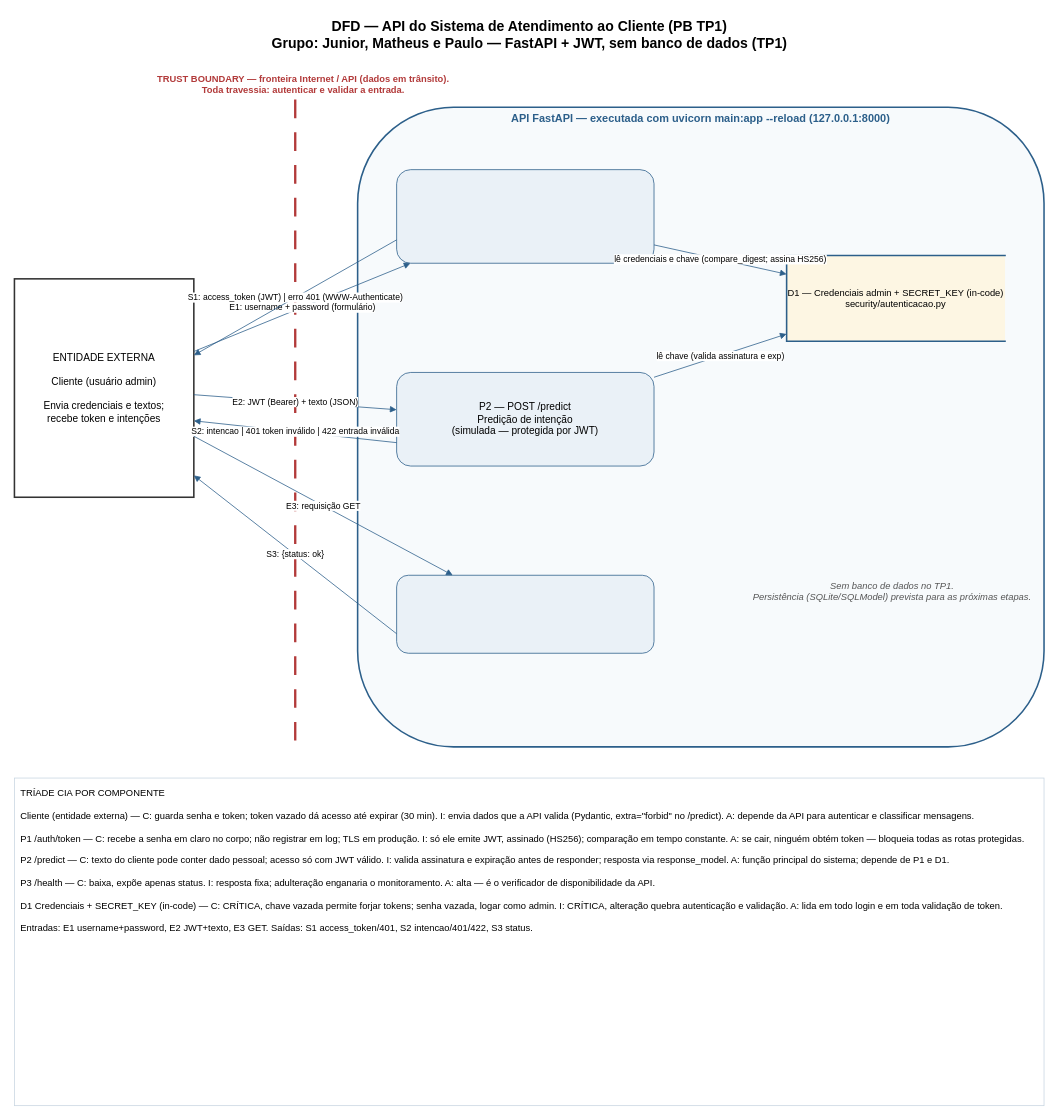
The diagram is 1058 pixels wide and 1119 high, and some of its shapes have lost their labels. The shapes that lost their labels are listed below. From the top down, each one's box as (x1, y1, x2, y2) in pixels, then its label:
(396, 169, 654, 263): P1 — POST /auth/token Autenticação (OAuth2PasswordRequestForm → JWT)
(396, 574, 654, 653): P3 — GET /health Monitoramento da API
